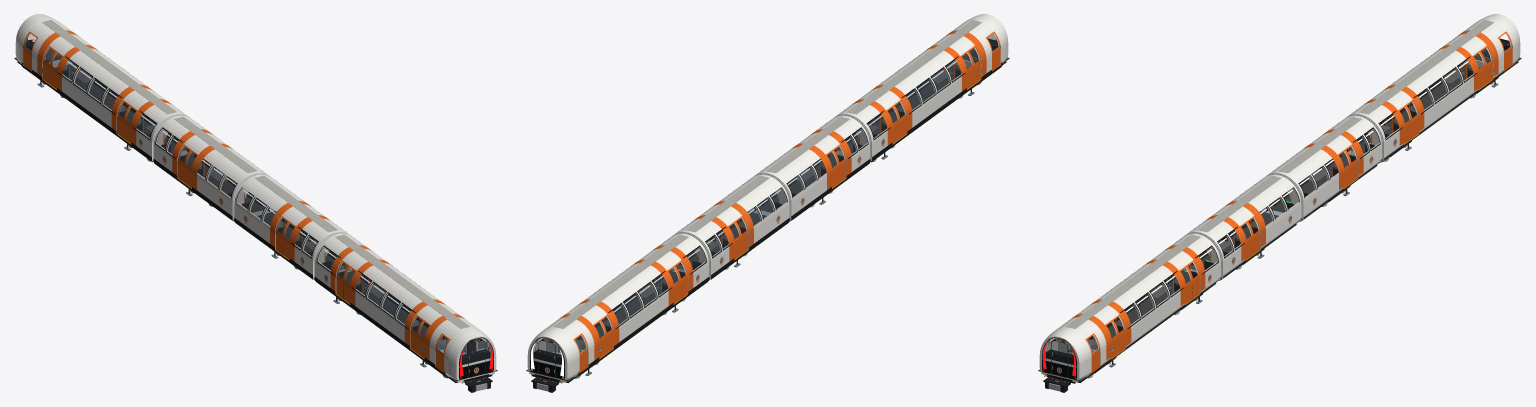
Rendered from train.glb.
3 renders of one model, left to right at view 1: azimuth 30°, elevation 25°; view 2: azimuth 150°, elevation 25°; view 3: azimuth 330°, elevation 25°, orthographic.
Parts seen in each view (by area): view 1: car_3_exterior, car_0_exterior, car_2_exterior, car_1_exterior, car_3_glass, car_0_saloon, car_3_saloon, car_0_glass, car_1_saloon, car_2_saloon, car_2_glass, car_1_glass (+1 smaller); view 2: car_0_exterior, car_3_exterior, car_1_exterior, car_2_exterior, car_0_glass, car_0_saloon, car_3_saloon, car_3_glass, car_2_saloon, car_1_saloon, car_1_glass, car_2_glass (+1 smaller); view 3: car_3_exterior, car_0_exterior, car_2_exterior, car_1_exterior, car_3_saloon, car_0_saloon, car_1_saloon, car_2_saloon, car_3_glass, car_3_cab.
Part boxes in pixels (bbox=[...]): car_3_exterior: bbox=[315, 233, 496, 392]; car_0_exterior: bbox=[15, 14, 189, 162]; car_2_exterior: bbox=[234, 174, 350, 279]; car_1_exterior: bbox=[154, 115, 270, 221]; car_3_glass: bbox=[318, 247, 490, 364]; car_0_saloon: bbox=[45, 50, 187, 160]; car_3_saloon: bbox=[322, 249, 477, 365]; car_0_glass: bbox=[47, 48, 155, 137]; car_1_saloon: bbox=[161, 131, 267, 219]; car_2_saloon: bbox=[242, 188, 347, 278]; car_2_glass: bbox=[237, 188, 317, 255]; car_1_glass: bbox=[157, 129, 236, 196]; car_0_exterior: bbox=[527, 233, 708, 392]; car_3_exterior: bbox=[834, 14, 1008, 162]; car_1_exterior: bbox=[673, 174, 789, 279]; car_2_exterior: bbox=[753, 115, 869, 221]; car_0_glass: bbox=[533, 247, 705, 364]; car_0_saloon: bbox=[546, 249, 701, 365]; car_3_saloon: bbox=[837, 50, 978, 160]; car_3_glass: bbox=[868, 34, 995, 137]; car_2_saloon: bbox=[756, 131, 862, 219]; car_1_saloon: bbox=[676, 188, 781, 278]; car_1_glass: bbox=[706, 188, 786, 255]; car_2_glass: bbox=[787, 129, 866, 196]; car_3_exterior: bbox=[1039, 233, 1220, 392]; car_0_exterior: bbox=[1346, 14, 1520, 161]; car_2_exterior: bbox=[1185, 174, 1301, 279]; car_1_exterior: bbox=[1265, 115, 1381, 220]; car_3_saloon: bbox=[1058, 249, 1219, 366]; car_0_saloon: bbox=[1349, 50, 1502, 160]; car_1_saloon: bbox=[1268, 131, 1380, 219]; car_2_saloon: bbox=[1188, 188, 1299, 278]; car_3_glass: bbox=[1045, 338, 1097, 364]; car_3_cab: bbox=[1038, 333, 1100, 381].
Bounding box in the file's own units: 2.43 × 2.68 × 40.22.
Materials: 34 (9 with a texture image).
